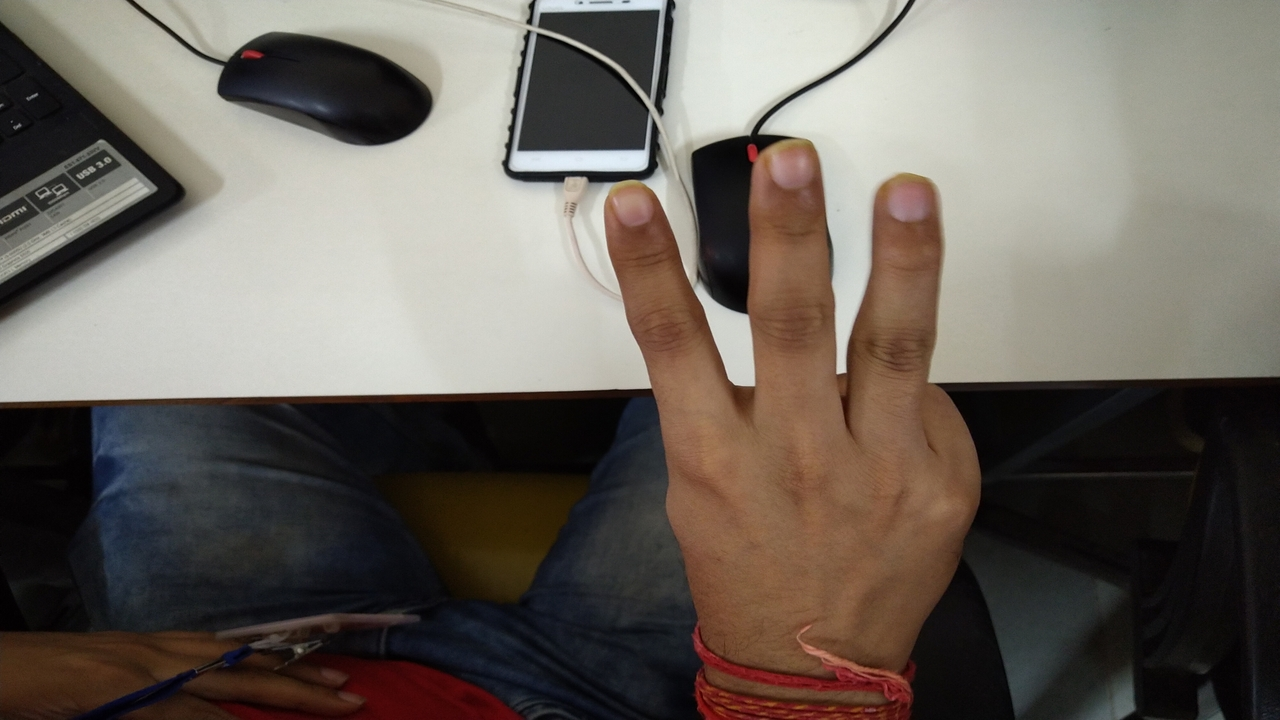fingertip: (872, 170, 946, 244), (754, 132, 828, 202), (602, 178, 664, 244)
